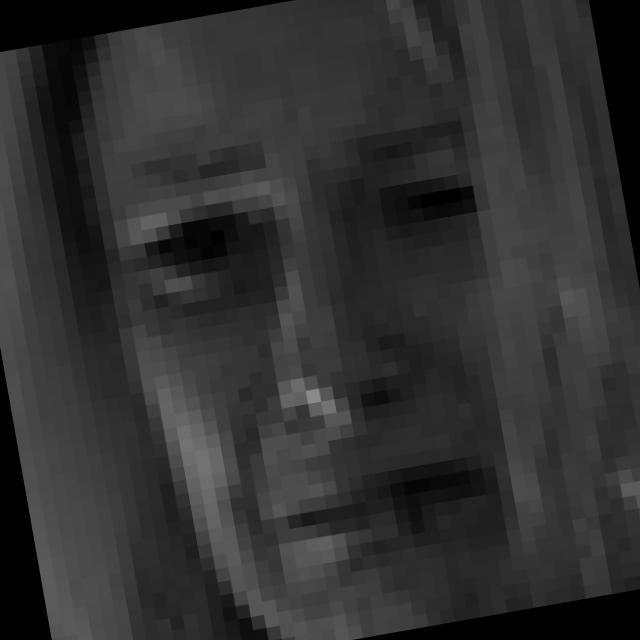sad: (96, 90, 541, 632)
